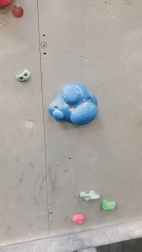Sloper: (46, 80, 99, 126)
